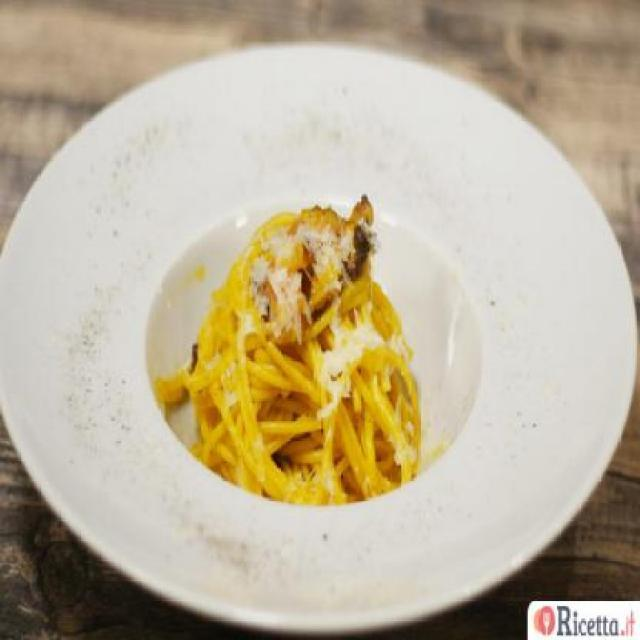Oil pasta: (136, 150, 484, 553)
